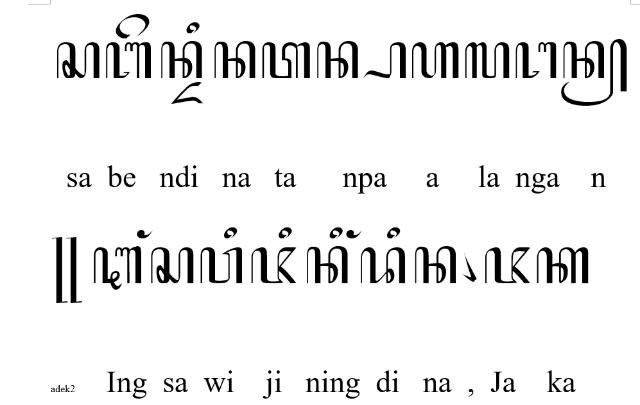-n: (560, 38, 628, 106)
I: (94, 246, 142, 290)
_d: (170, 81, 204, 105)
_p: (362, 41, 406, 79)
adeg2: (52, 236, 82, 304)
b: (106, 40, 152, 80)
d: (360, 247, 406, 285)
e: (114, 13, 150, 39)
h: (410, 42, 460, 78)
i: (185, 21, 199, 35), (278, 226, 292, 240), (386, 226, 400, 240), (222, 227, 238, 239), (330, 227, 342, 241)
j: (250, 247, 298, 285), (484, 246, 530, 284)
k: (536, 246, 590, 286)
kom: (461, 252, 477, 281)
l: (464, 42, 510, 80)
n: (214, 40, 256, 80), (415, 246, 457, 286), (316, 41, 359, 79), (161, 41, 203, 79), (306, 246, 348, 284)
ng: (136, 229, 154, 239), (346, 230, 362, 241)
nga: (515, 42, 557, 81)
s: (56, 41, 100, 79), (150, 247, 194, 284)
t: (261, 42, 311, 80)
w: (199, 246, 243, 284)
